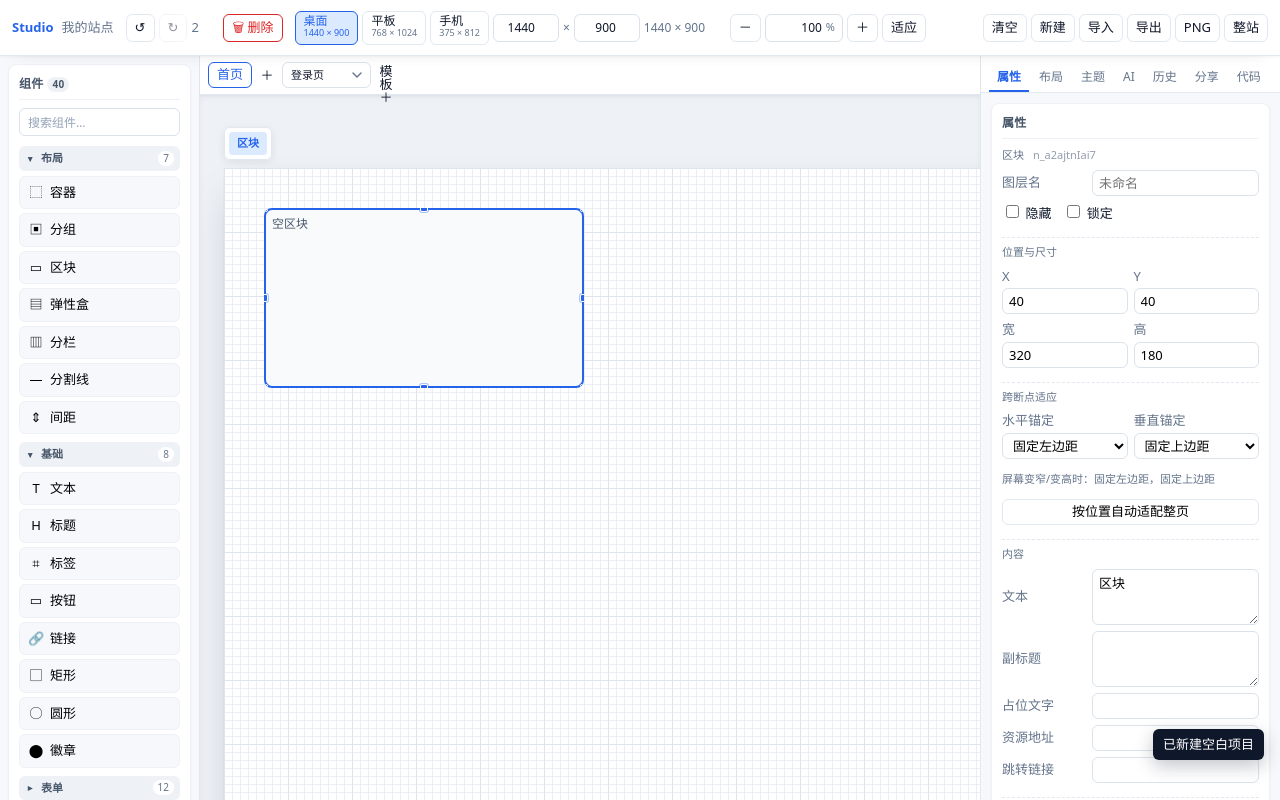
Test: M1 编辑器：画布交互与面板 › M20：双击布局组件也能输入文字，画布用角标显示（默认文字不显示）
Double-click the 2nd element showing "区块".
double_click(424, 298)  # box [264,208,584,388]
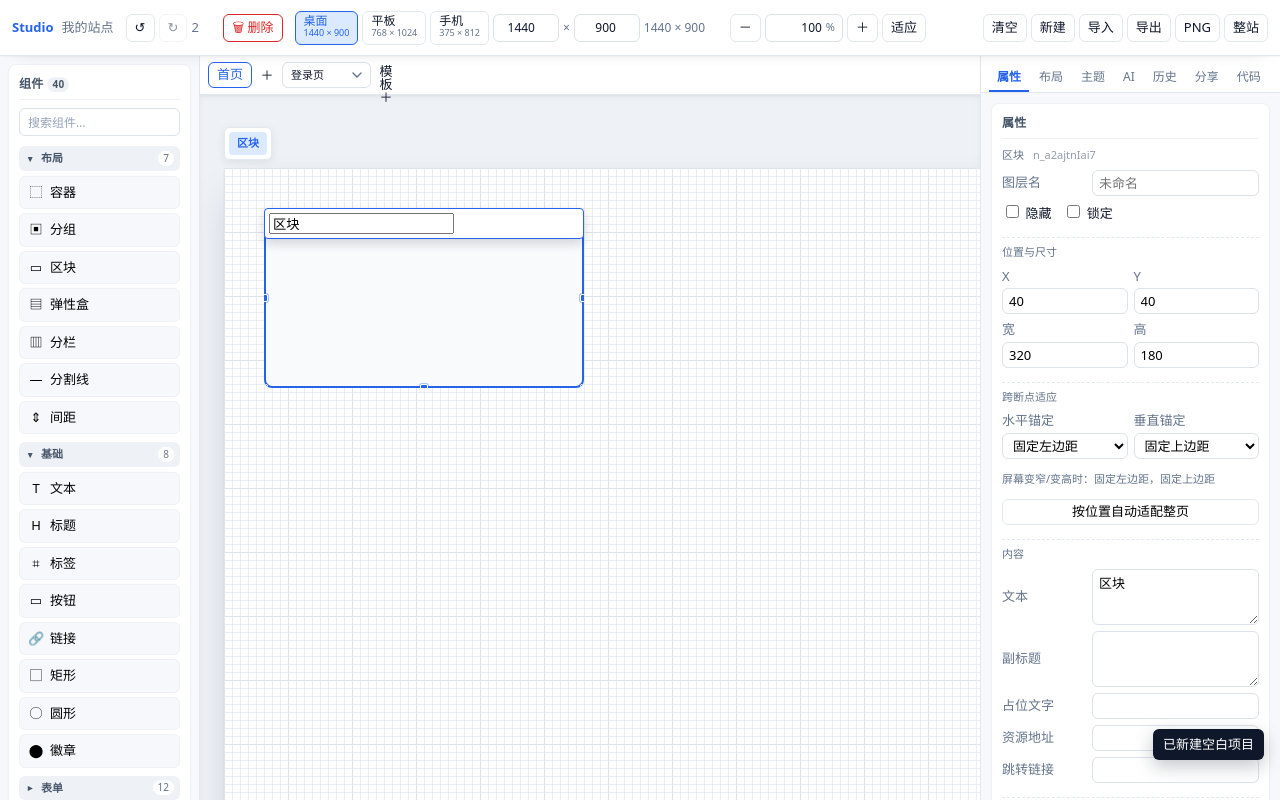
Now the 2nd field is shown
Replace the text in the 2nd field with "营销活动区" at (362, 223), box [269,212,454,234]
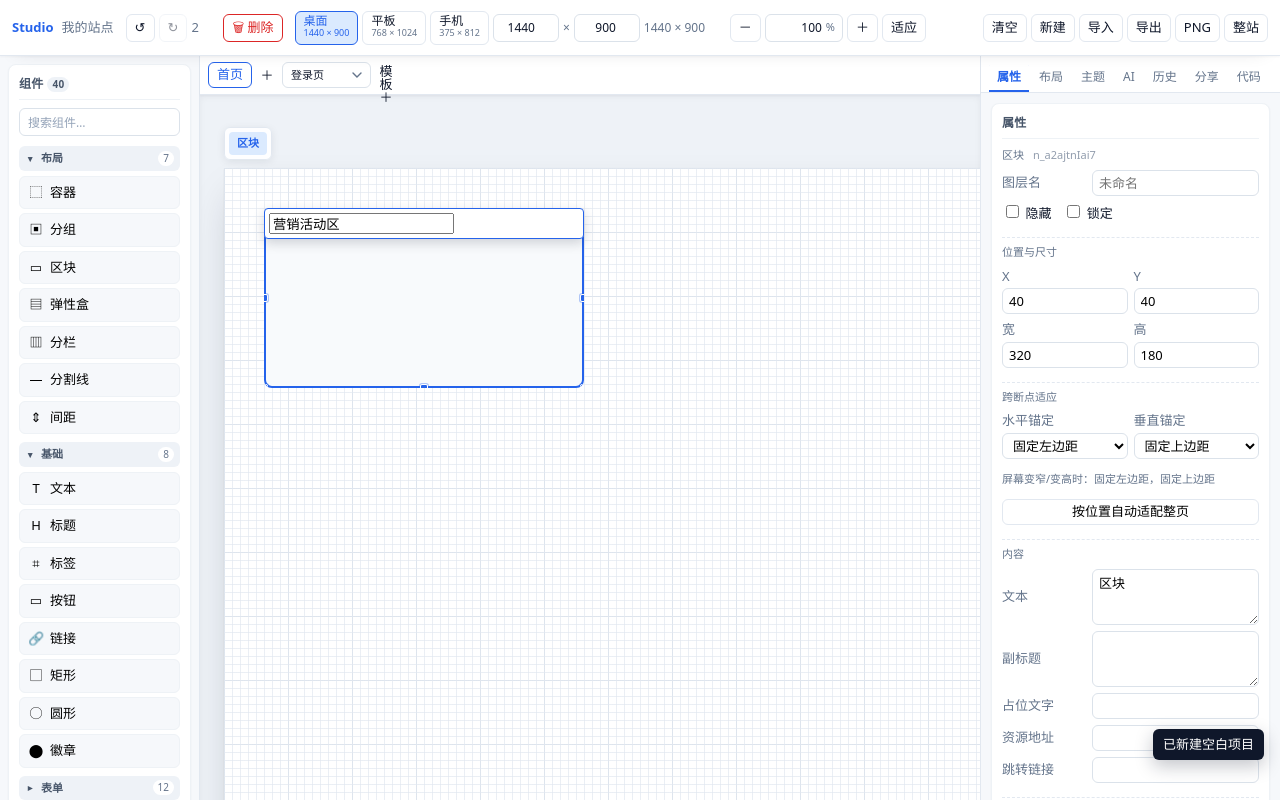
Press Enter in the 2nd field, box [269,212,454,234]
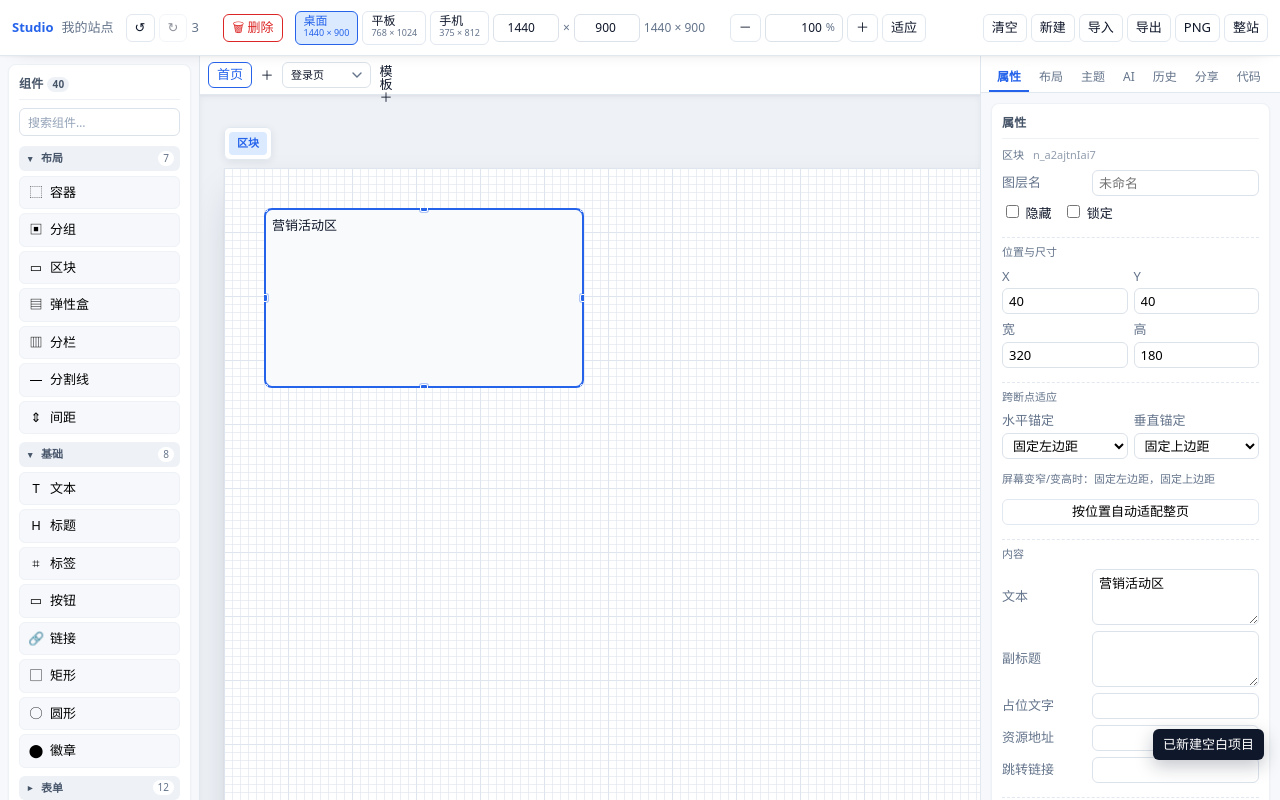
Now the text "营销活动区" is shown, box [272,216,337,234]
